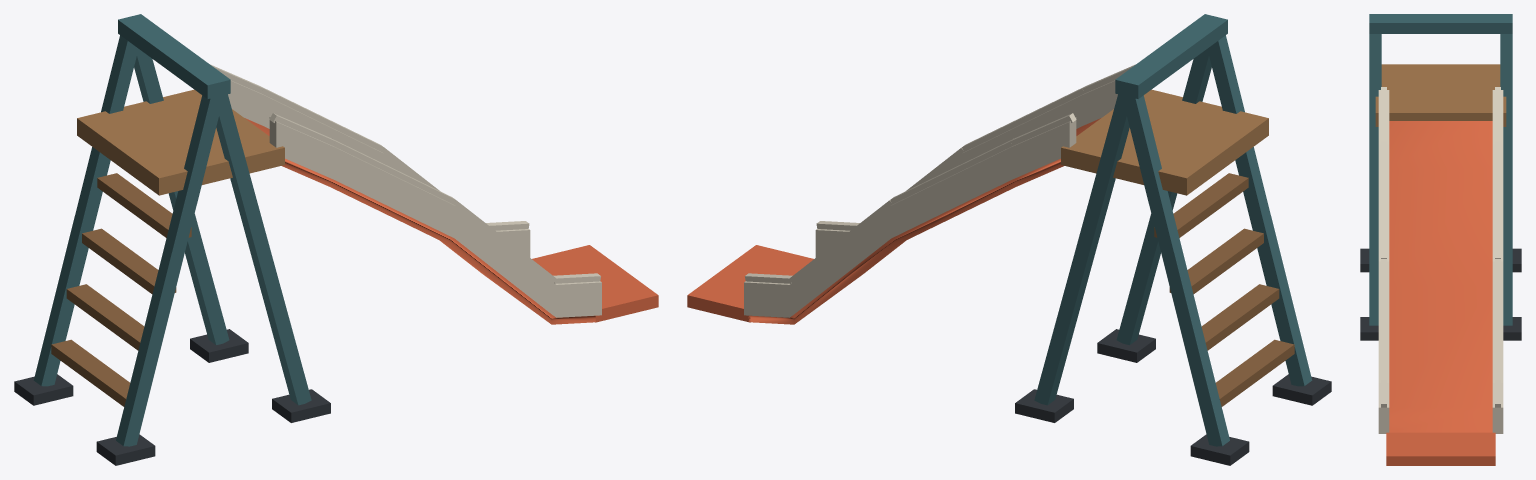
File: park-slide.glb
The picture shows the model from 3 angles, left to right: view 1: azimuth 30°, elevation 25°; view 2: azimuth 150°, elevation 25°; view 3: azimuth 270°, elevation 25°; orthographic projection. The views are drawn at different scales.
Parts seen in each view (by area): view 1: Merged_prop-accent, Merged_prop-body-light, Merged_city-timber-light, Merged_city-timber, Merged_prop-body, Merged_city-metal-dark; view 2: Merged_prop-accent, Merged_prop-body-light, Merged_city-timber-light, Merged_city-timber, Merged_prop-body, Merged_city-metal-dark; view 3: Merged_prop-body, Merged_prop-accent, Merged_prop-body-light, Merged_city-timber-light, Merged_city-metal-dark.
Boxes of the visible parts, x1,y1,x2,y2 form: Merged_prop-accent: (33, 14, 311, 446); Merged_prop-body-light: (210, 64, 601, 317); Merged_city-timber-light: (77, 89, 284, 195); Merged_city-timber: (51, 173, 191, 406); Merged_prop-body: (245, 118, 658, 324); Merged_city-metal-dark: (14, 329, 330, 465); Merged_prop-accent: (1034, 14, 1312, 446); Merged_prop-body-light: (744, 64, 1135, 317); Merged_city-timber-light: (1061, 89, 1268, 195); Merged_city-timber: (1154, 173, 1294, 406); Merged_prop-body: (687, 118, 1100, 324); Merged_city-metal-dark: (1015, 329, 1331, 465); Merged_prop-body: (1386, 121, 1495, 465); Merged_prop-accent: (1369, 14, 1512, 325); Merged_prop-body-light: (1378, 87, 1503, 433); Merged_city-timber-light: (1375, 64, 1506, 126); Merged_city-metal-dark: (1360, 248, 1521, 340).
Size of what is drawn, in the model's own units: 3.38 by 2.04 by 1.06.
